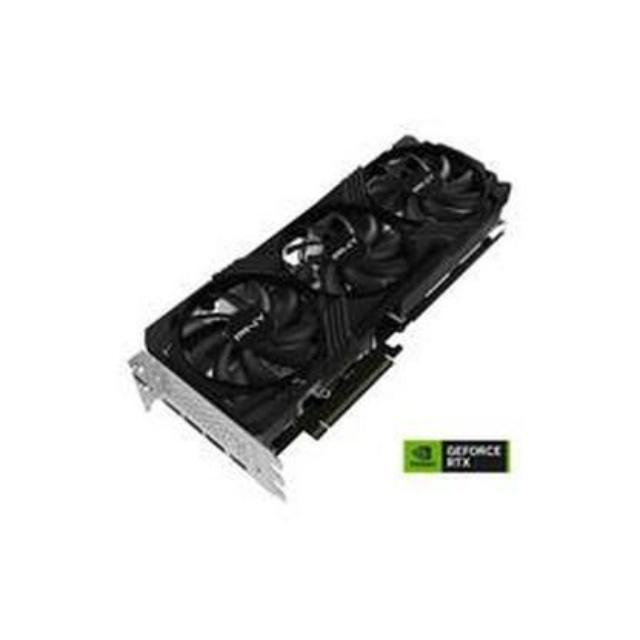GPU: (126, 122, 511, 496)
